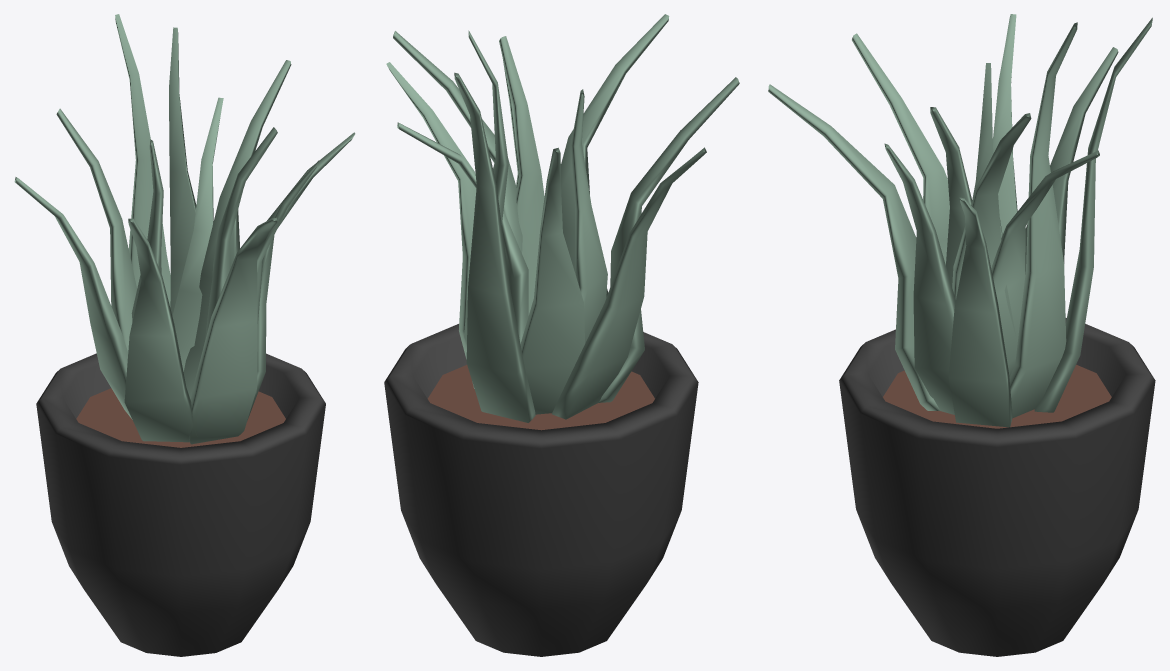
File: flower_007.fbx
The picture shows the model from 3 angles, left to right: view 1: azimuth 30°, elevation 25°; view 2: azimuth 150°, elevation 25°; view 3: azimuth 270°, elevation 25°; orthographic projection. The views are drawn at different scales.
Visible parts, largest first — view 1: flower_007; view 2: flower_007; view 3: flower_007.
Boxes of the visible parts, bbox=[...] form: flower_007: bbox=[14, 14, 355, 656]; flower_007: bbox=[384, 14, 739, 656]; flower_007: bbox=[768, 14, 1155, 656].
Bounding box in the file's own units: 39.11 × 37.95 × 66.88.
